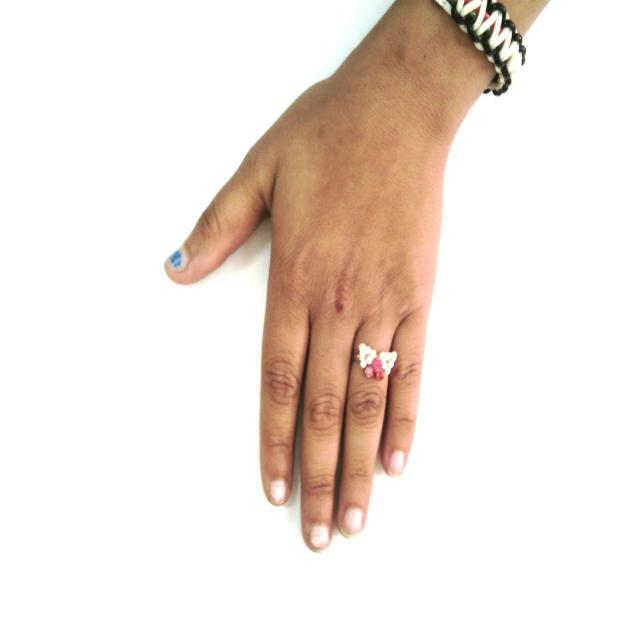Fingernail: (342, 506, 362, 536), (167, 248, 189, 272), (310, 524, 329, 548), (388, 451, 404, 475), (271, 481, 288, 502)
